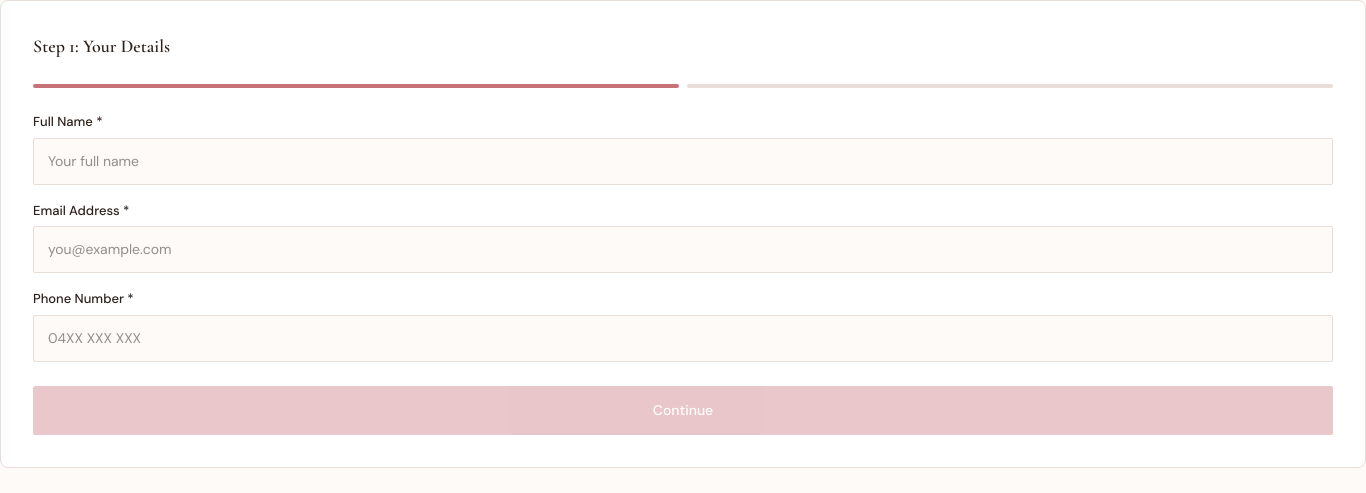
Test: ClaimForm component › shows error message on API failure
Type "Test" into the field with placeholder "Your full name".
click(683, 161); type("Test")  # box [33,138,1333,184]
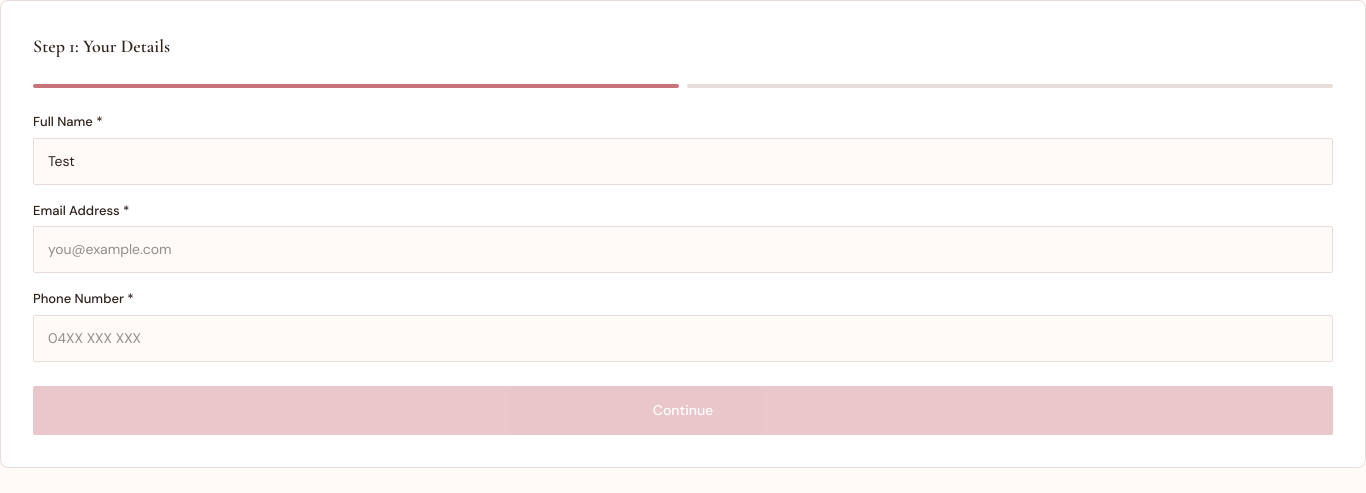
Type "t@t.com" into the field with placeholder "you@example.com".
click(683, 250); type("t@t.com")  # box [33,226,1333,273]
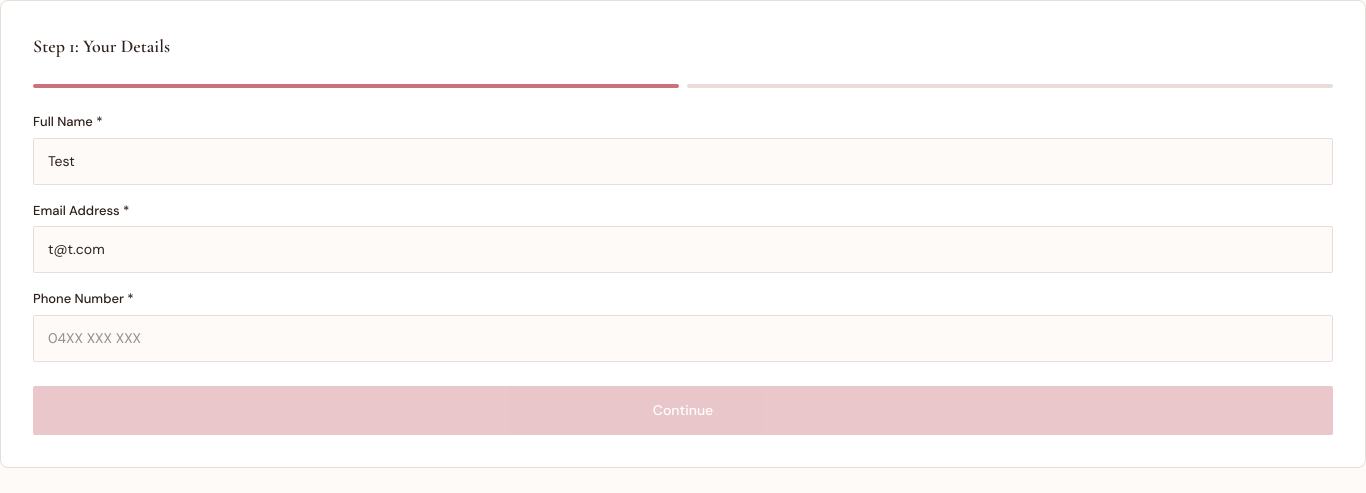
Type "0400000000" into the field with placeholder "04XX XXX XXX".
click(683, 338); type("0400000000")  # box [33,314,1333,362]
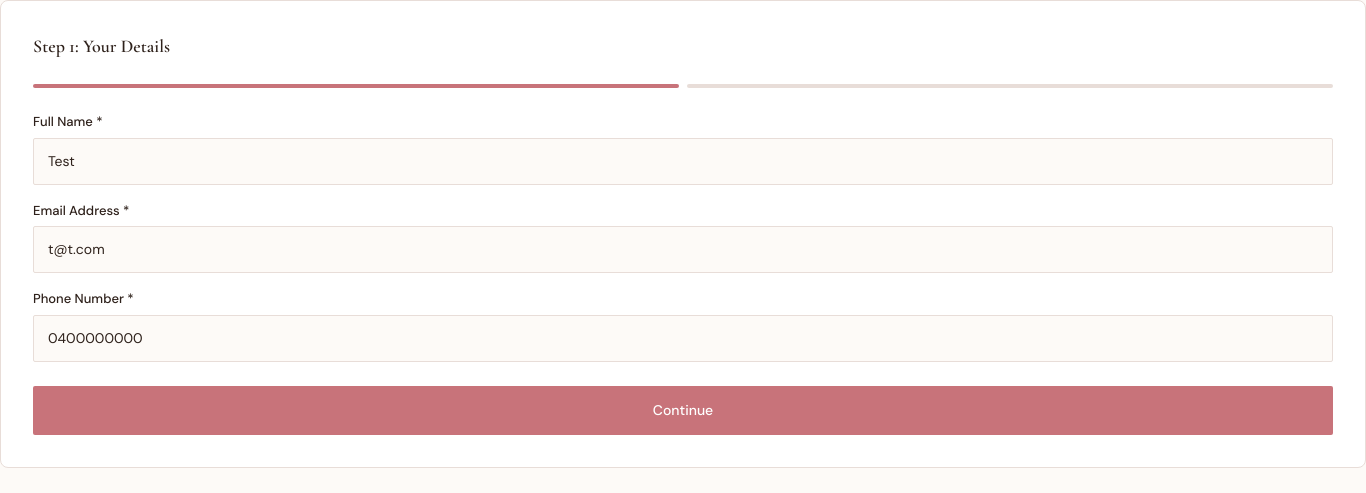
Click the button "Continue".
click(683, 410)  # box [33,386,1333,434]
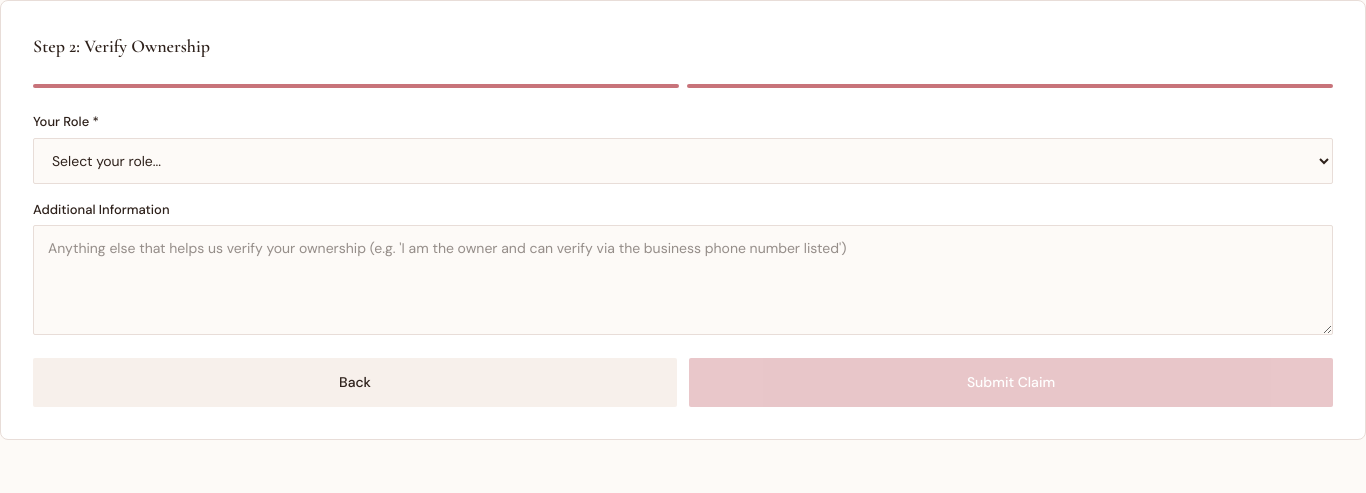
Select "Manager" in the dropdown at (683, 160), box [33,138,1333,184]
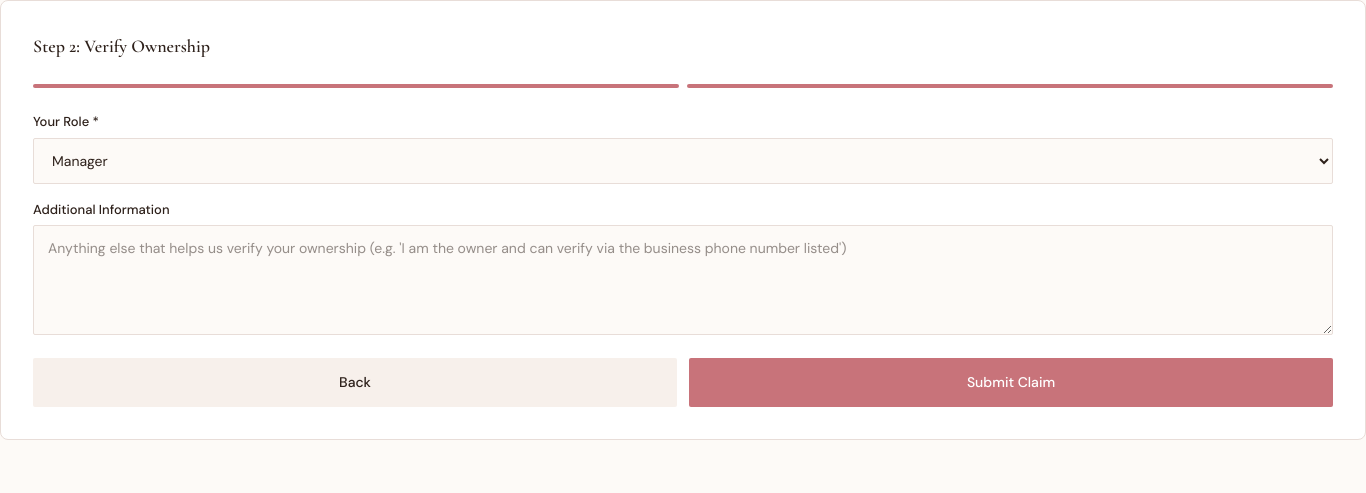
Click the button "Submit Claim".
click(1011, 382)  # box [689,358,1333,407]
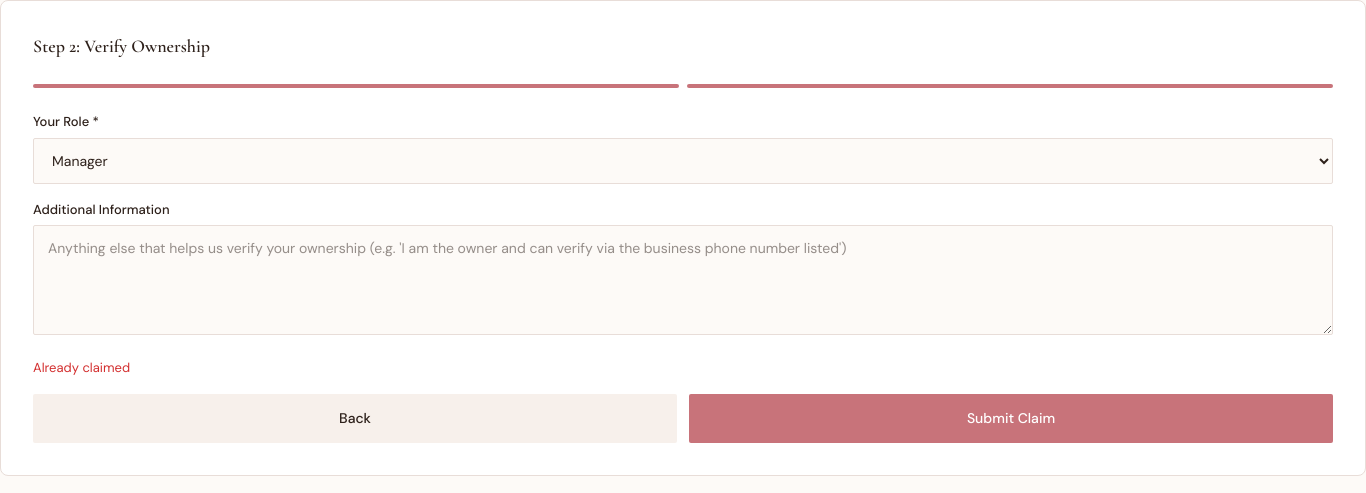
Expected: the text "Already claimed" is shown, [33,359,130,376]
